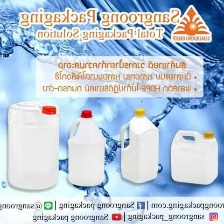cleaning_solution: (4, 98, 62, 193), (118, 106, 161, 184), (167, 128, 222, 188), (65, 107, 106, 187)
